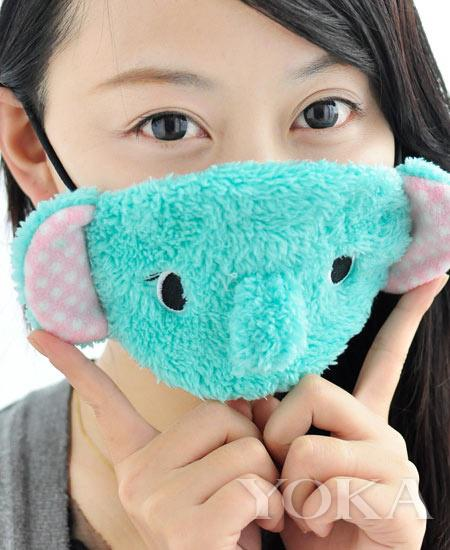OK: (61, 43, 413, 395)
